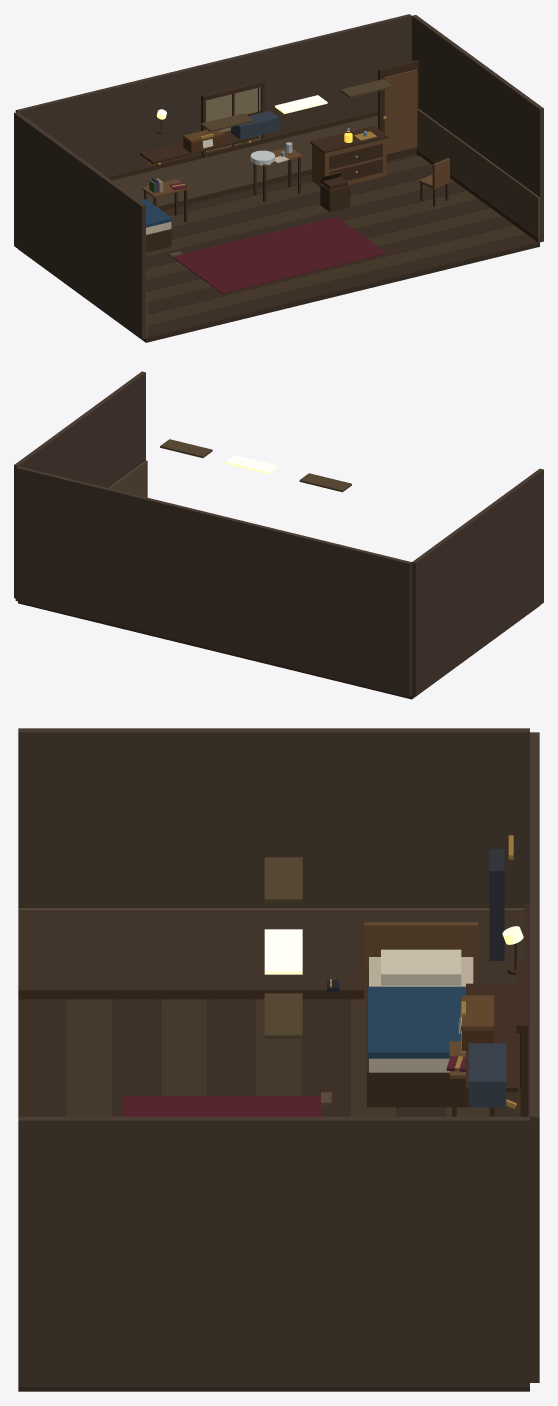
File: berth.glb
The picture shows the model from 3 angles, top to bottom: view 1: azimuth 30°, elevation 25°; view 2: azimuth 150°, elevation 25°; view 3: azimuth 270°, elevation 25°; orthographic projection. The views are drawn at different scales.
Parts seen in each view (by area): view 1: WallBack, WallLeft, WallRight, Rug, BandBack, BandRight, Plank0, Plank1, Floor, Plank2, Plank7, Plank8 (+25 smaller); view 2: WallBack, WallLeft, WallRight, Floor, BandRight, CeilLamp1, CeilLamp0, CeilLamp2; view 3: WallRight, WallLeft, BandLeft, BedBlanket, WallBack, Plank1, Plank0, Floor, Plank6, Plank2, Plank3, Plank4 (+15 smaller).
Boxes of the visible parts, x1,y1,x2,y2 form: WallBack: [15, 14, 411, 176]; WallLeft: [14, 112, 145, 339]; WallRight: [412, 15, 543, 242]; Rug: [173, 216, 386, 293]; BandBack: [112, 115, 377, 206]; BandRight: [417, 109, 539, 242]; Plank0: [147, 234, 537, 337]; Plank1: [147, 225, 525, 325]; Floor: [18, 154, 539, 342]; Plank2: [147, 216, 513, 314]; Plank7: [146, 178, 454, 257]; Plank8: [171, 164, 432, 239]; WallBack: [15, 466, 411, 696]; WallLeft: [412, 468, 543, 695]; WallRight: [14, 371, 145, 598]; Floor: [18, 601, 538, 699]; BandRight: [109, 460, 147, 497]; CeilLamp1: [225, 455, 278, 474]; CeilLamp0: [299, 473, 351, 492]; CeilLamp2: [160, 439, 212, 457]; WallRight: [18, 1116, 529, 1386]; WallLeft: [18, 728, 529, 908]; BandLeft: [18, 908, 524, 989]; BedBlanket: [368, 986, 465, 1058]; WallBack: [530, 732, 539, 1382]; Plank1: [66, 999, 112, 1116]; Plank0: [19, 999, 64, 1116]; Floor: [18, 1000, 529, 1391]; Plank6: [303, 999, 348, 1116]; Plank2: [114, 999, 159, 1116]; Plank3: [161, 999, 206, 1095]; Plank4: [209, 999, 254, 1095].
Size of the model in its own units: 9.8 by 3.2 by 5.5.
